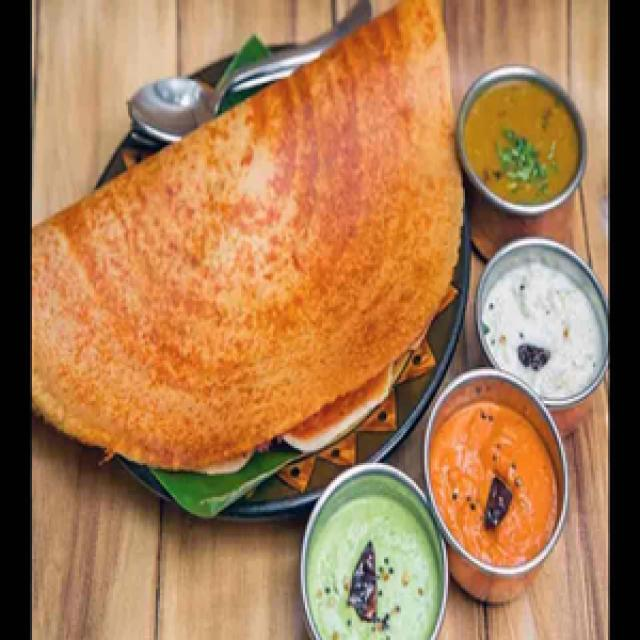dosa: (23, 0, 466, 479)
